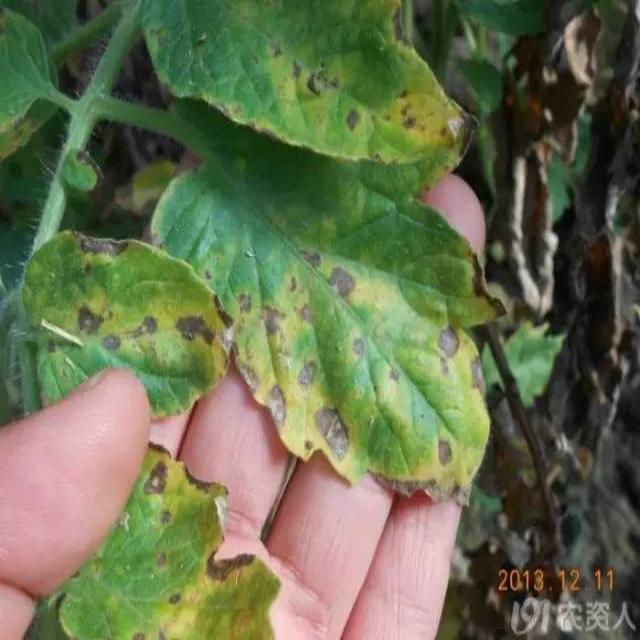Early_blight: (502, 1, 601, 321), (372, 463, 479, 509), (465, 250, 507, 319), (311, 401, 353, 466), (200, 537, 258, 584), (439, 97, 480, 161), (66, 228, 129, 257), (142, 440, 170, 497), (431, 319, 458, 375), (172, 314, 215, 348), (180, 461, 221, 495), (74, 299, 109, 336), (304, 62, 340, 97), (388, 5, 415, 50), (258, 303, 289, 342), (214, 295, 234, 351), (326, 264, 357, 297), (266, 379, 287, 427), (395, 91, 420, 130), (296, 246, 323, 272), (297, 358, 318, 389), (470, 353, 487, 390), (151, 546, 173, 574), (437, 436, 456, 468), (235, 289, 254, 315), (138, 311, 157, 336), (353, 336, 366, 364), (345, 109, 361, 130), (167, 590, 184, 607)
